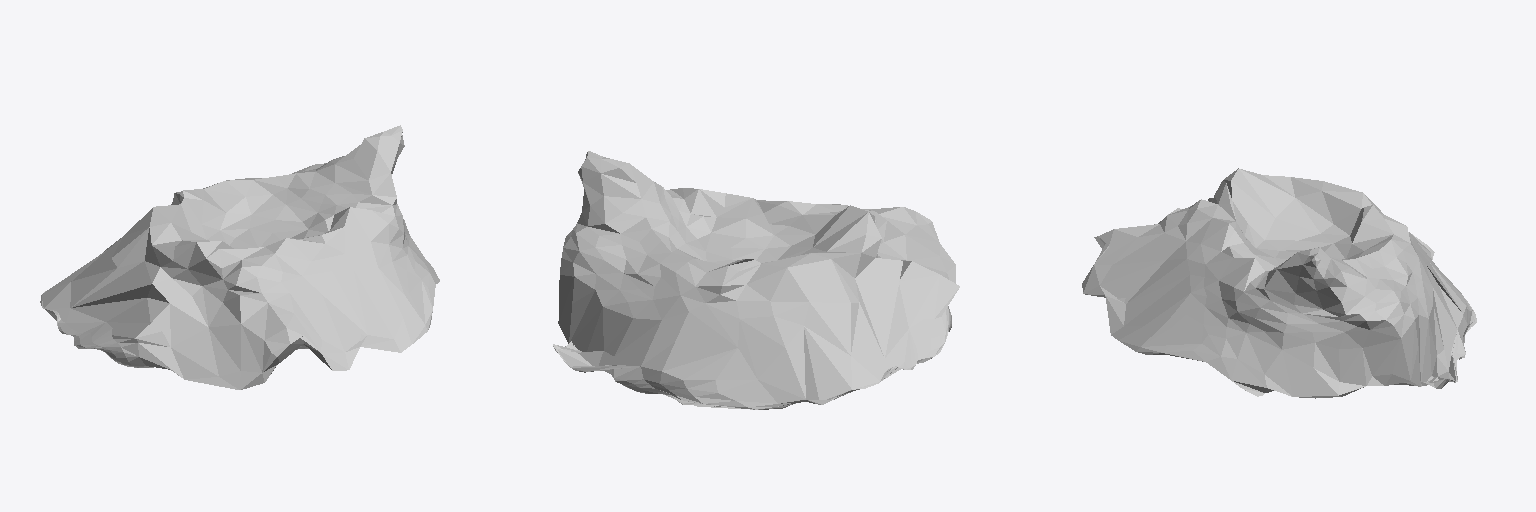
Rendered from islandblend.obj.
3 renders of one model, left to right at view 1: azimuth 30°, elevation 25°; view 2: azimuth 150°, elevation 25°; view 3: azimuth 270°, elevation 25°, orthographic.
Visible parts, largest first — view 1: Cube; view 2: Cube; view 3: Cube.
Part boxes in pixels (x1,y1,x2,y2): Cube: (40,125,439,389); Cube: (553,151,959,409); Cube: (1082,168,1476,398).
Size of the model in its own units: 20.54 by 8.82 by 20.08.